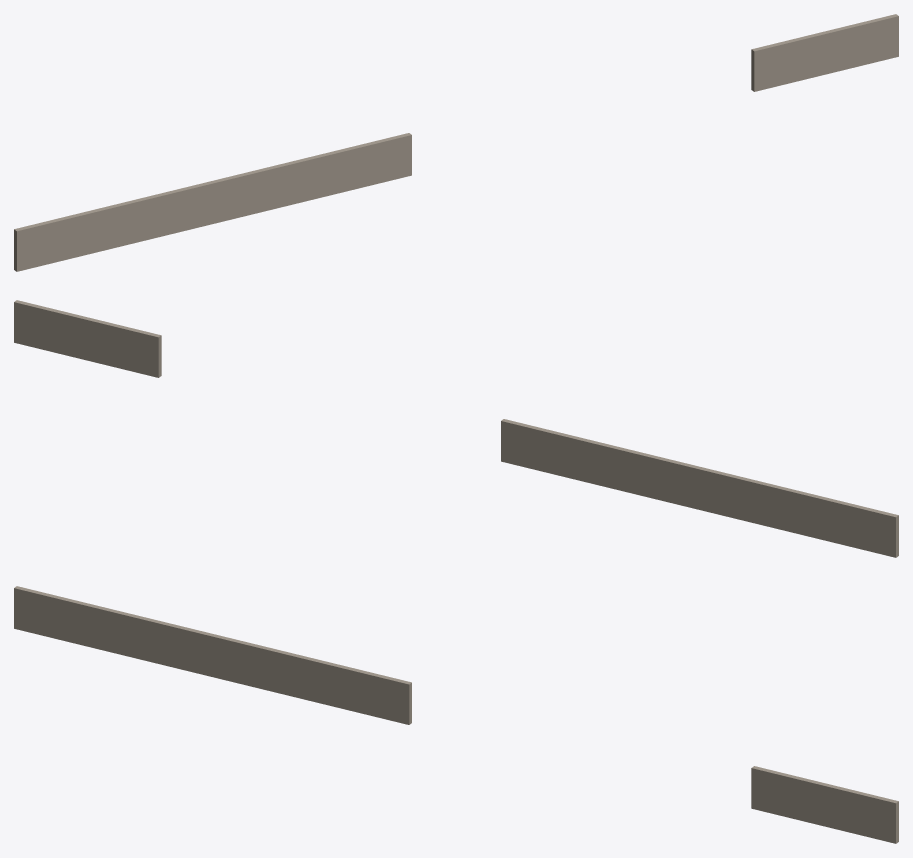
File: SM_Skirting_Study_South_001.fbx
The picture shows the model from 3 angles, top to bottom: view 1: azimuth 30°, elevation 25°; view 2: azimuth 150°, elevation 25°; view 3: azimuth 330°, elevation 25°; orthographic projection.
Parts seen in each view (by area): view 1: SM_Skirting_Study_South_001; view 2: SM_Skirting_Study_South_001; view 3: SM_Skirting_Study_South_001.
Part boxes in pixels (x1=…): SM_Skirting_Study_South_001: x1=14, y1=14, x2=898, y2=271; SM_Skirting_Study_South_001: x1=14, y1=300, x2=898, y2=557; SM_Skirting_Study_South_001: x1=14, y1=586, x2=898, y2=843.
Bounding box in the file's own units: 250 × 11 × 1.4.
